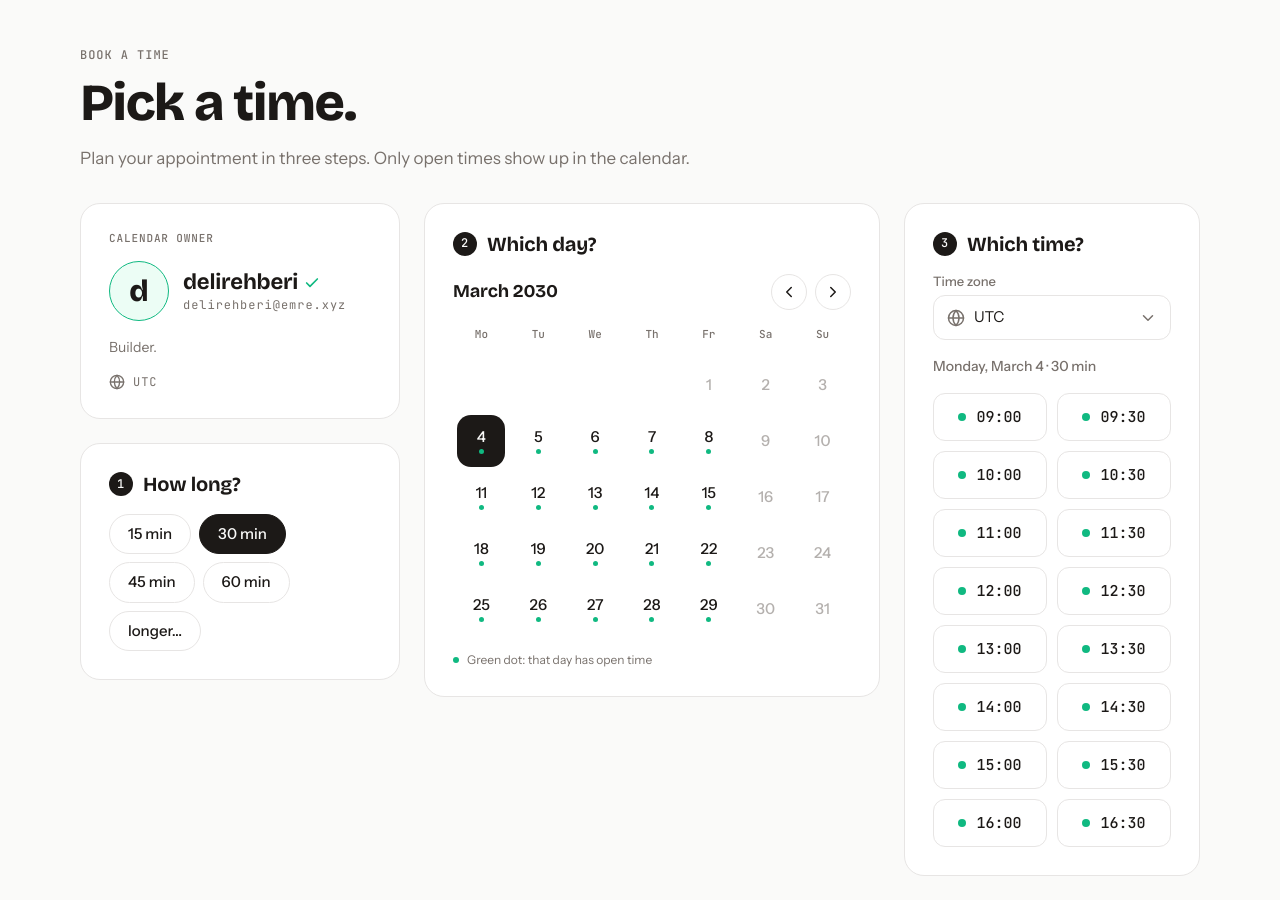
Test: BookingPage › recomputes the slots when the duration changes
The width and height of the screenshot is (1280, 900).
Expected: the element named "Open times" is shown, [933,393,1171,847]
Click the radio button labelled "60 min". click: click(246, 582)
box: [202,562,290,602]
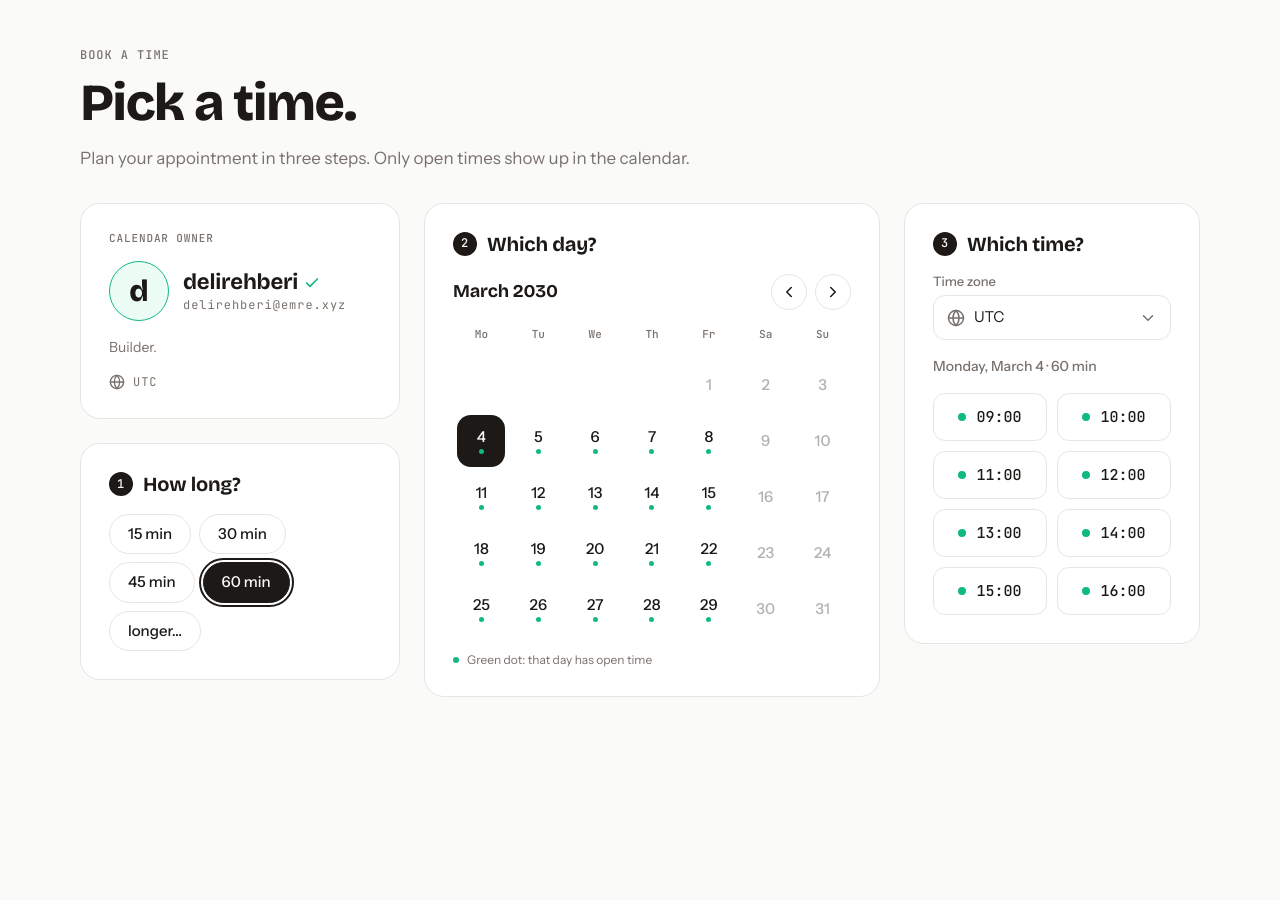
Now the text "Monday, March 4 · 60 min" is shown, box [933,357,1097,375]
